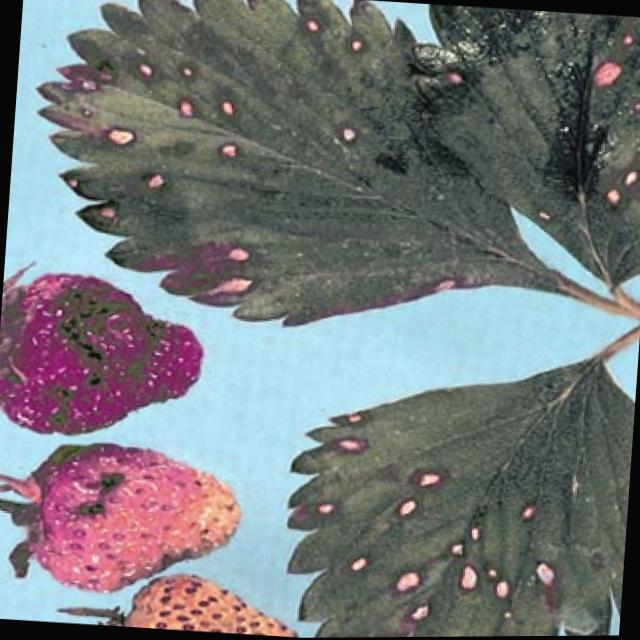Anthracnose Fruit Rot: (38, 280, 178, 435), (68, 455, 141, 537), (155, 619, 203, 631)
Leaf Spot: (32, 0, 576, 329), (283, 355, 635, 638), (410, 4, 640, 287)
